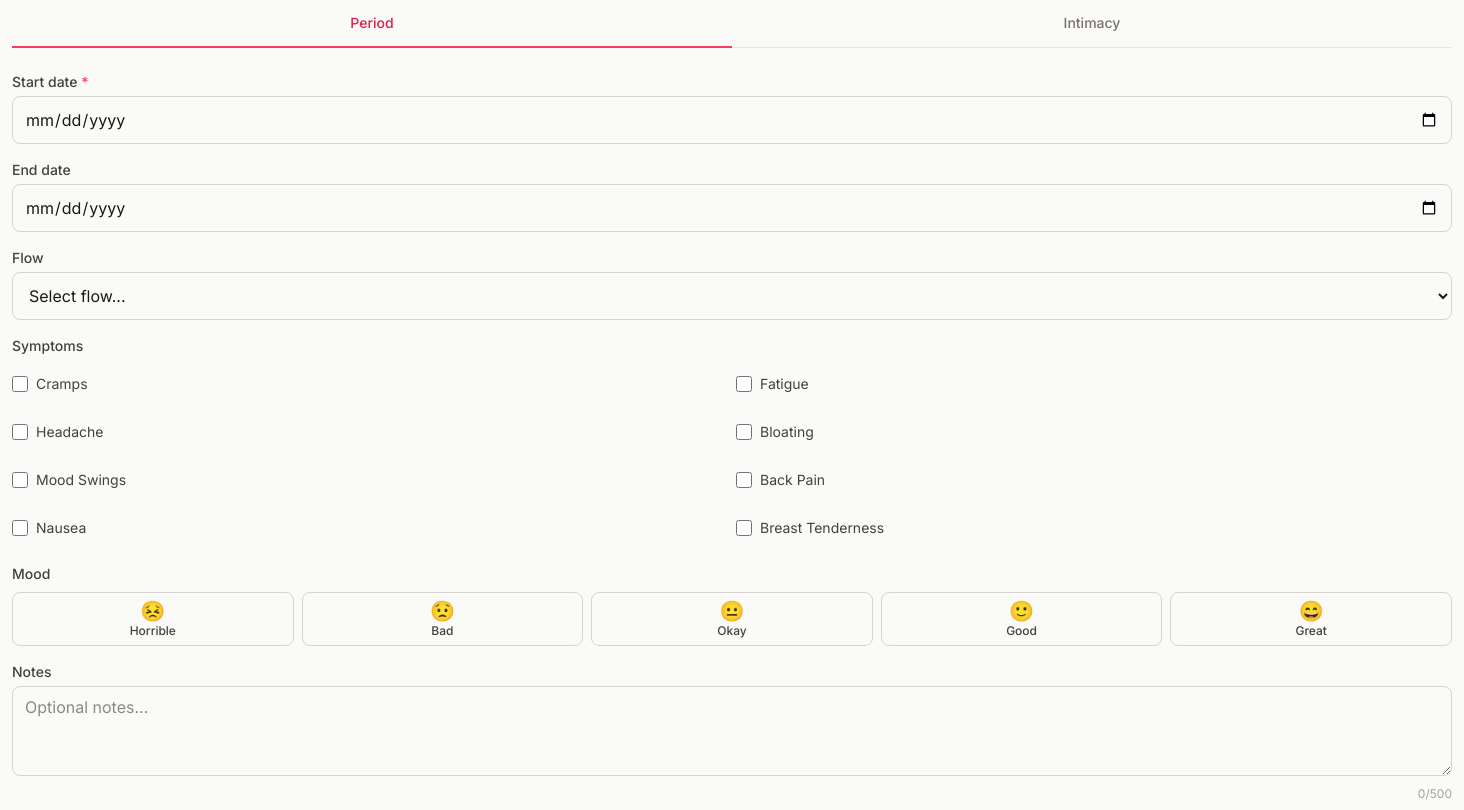
Test: LogEntryForm › disables submit button and shows spinner while saving
Type "2024-03-01" into the date field labelled "Start date *".
click(732, 120); type("2024-03-01")  # box top-left (12, 96), bottom-right (1452, 144)
(page scrolled)
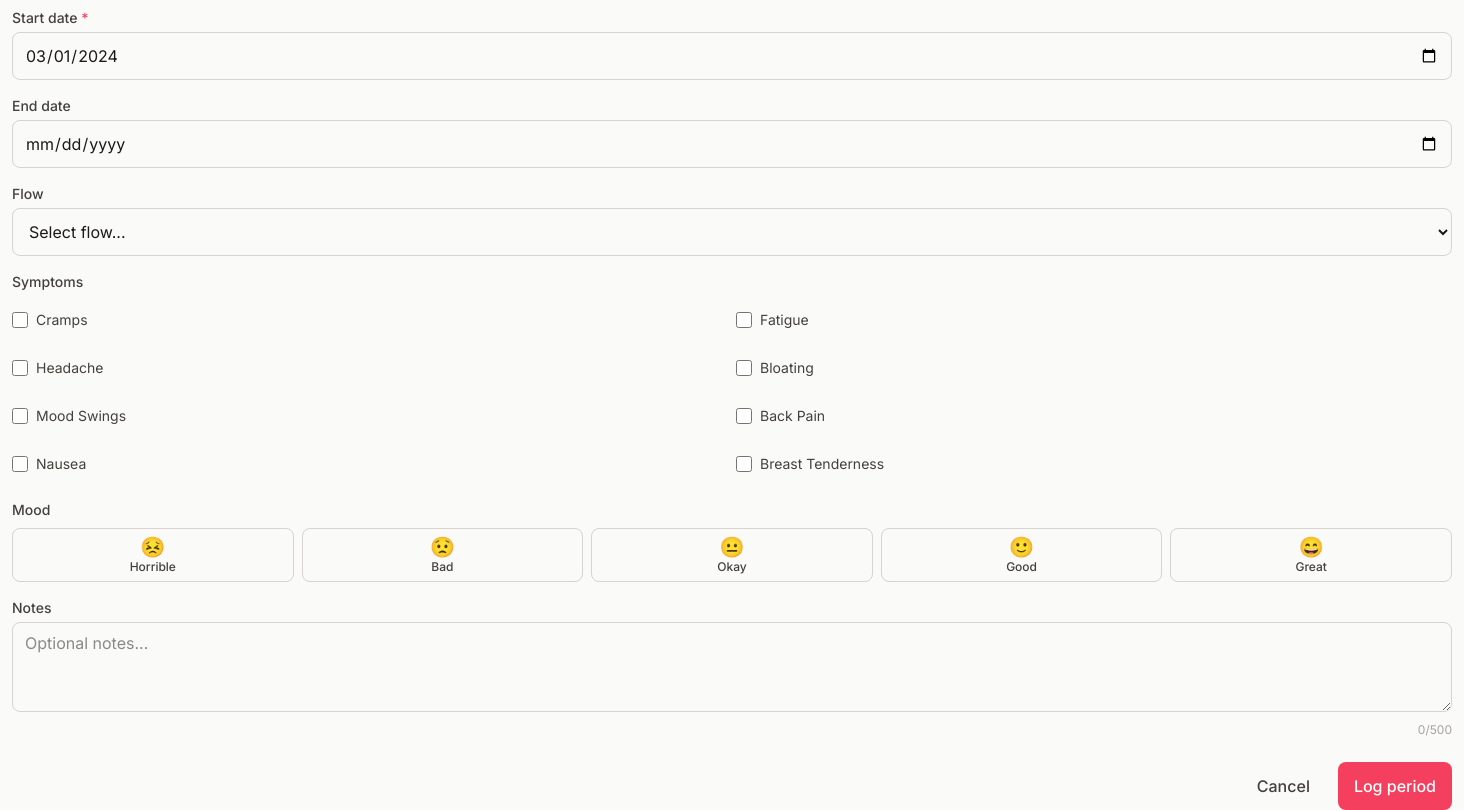
Click the button "Log period".
click(1395, 786)  # box top-left (1338, 762), bottom-right (1452, 809)
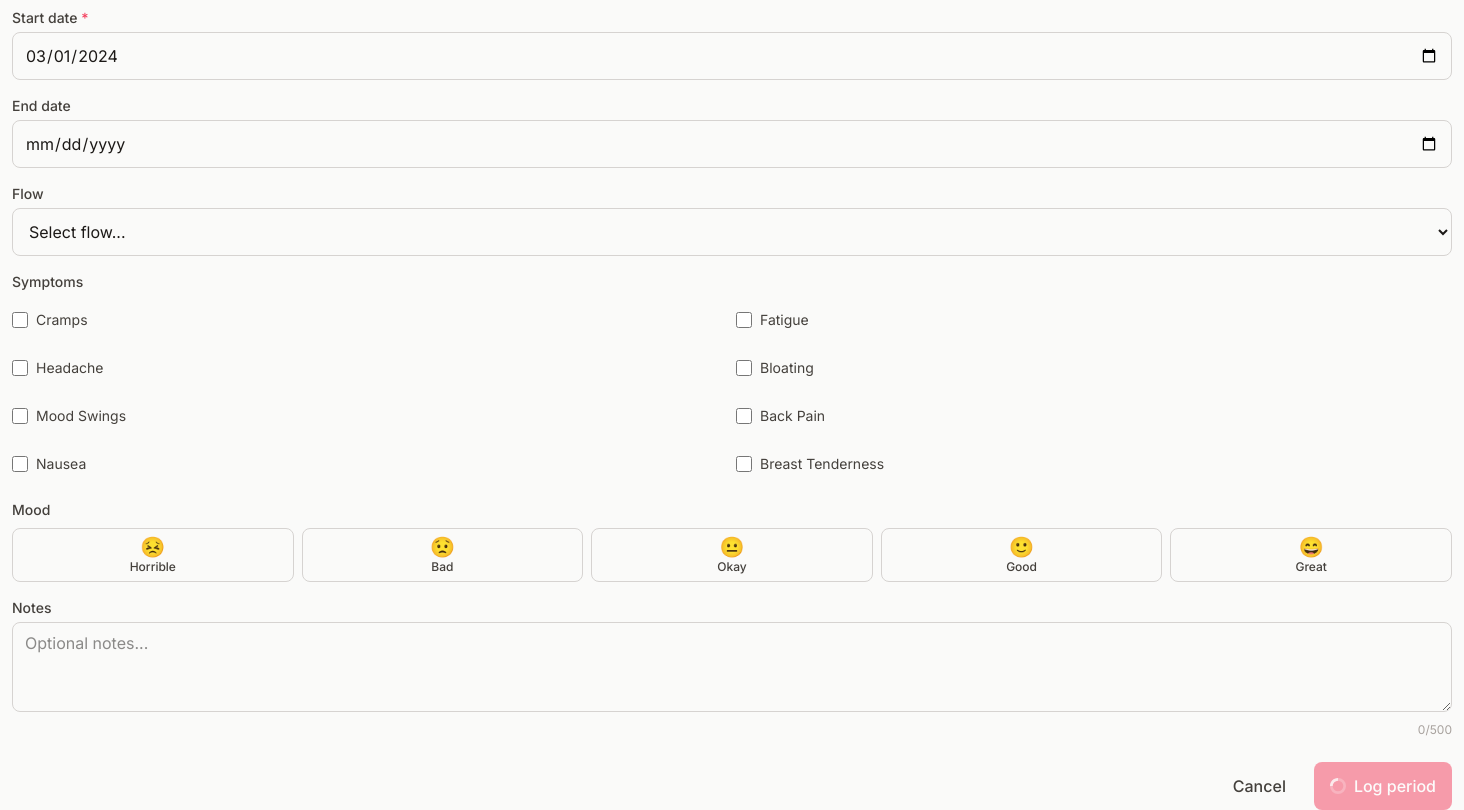
Result: the button "Log period" is disabled at top-left (1314, 762), bottom-right (1452, 809)
Result: the message is shown at top-left (1330, 778), bottom-right (1346, 794)
